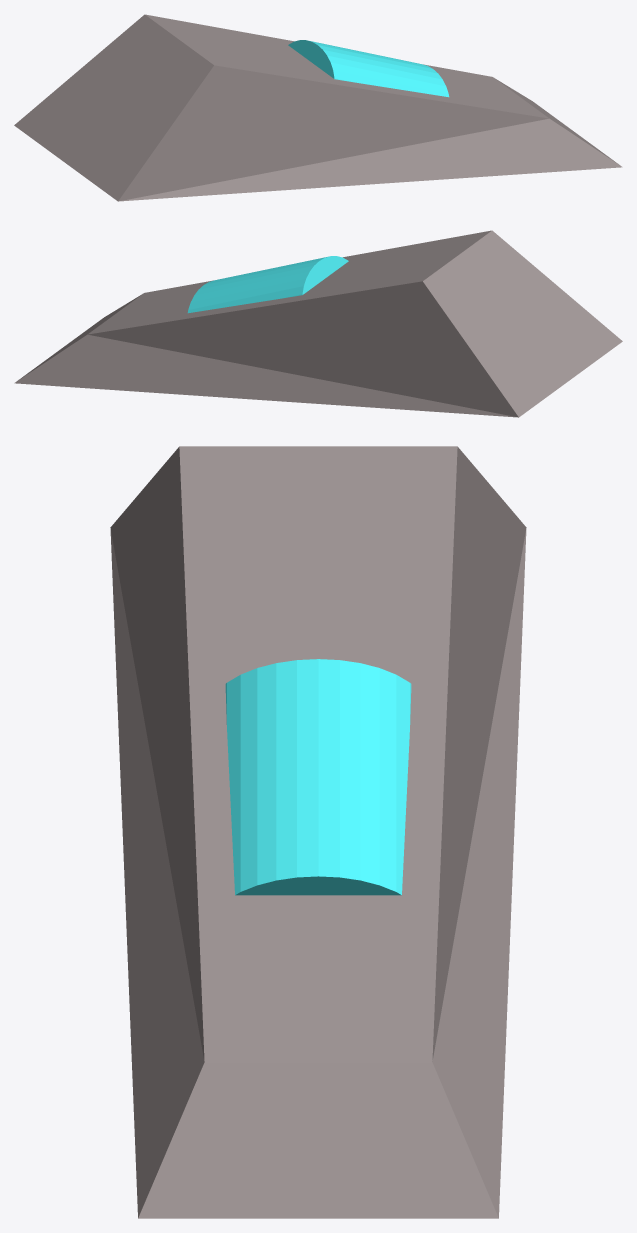
The model's file is parts_01.obj.
3 renders of one model, top to bottom at view 1: azimuth 30°, elevation 25°; view 2: azimuth 150°, elevation 25°; view 3: azimuth 270°, elevation 25°, orthographic. The views are drawn at different scales.
Parts seen in each view (by area): view 1: 体_02; view 2: 体_02; view 3: 体_02.
Part boxes in pixels (x1,y1,x2,y2): 体_02: [14, 14, 622, 201]; 体_02: [14, 230, 622, 417]; 体_02: [110, 446, 526, 1218].
Bounding box in the file's own units: 2.03 × 0.7251 × 0.7132.
Materials: 1 (1 with a texture image).
